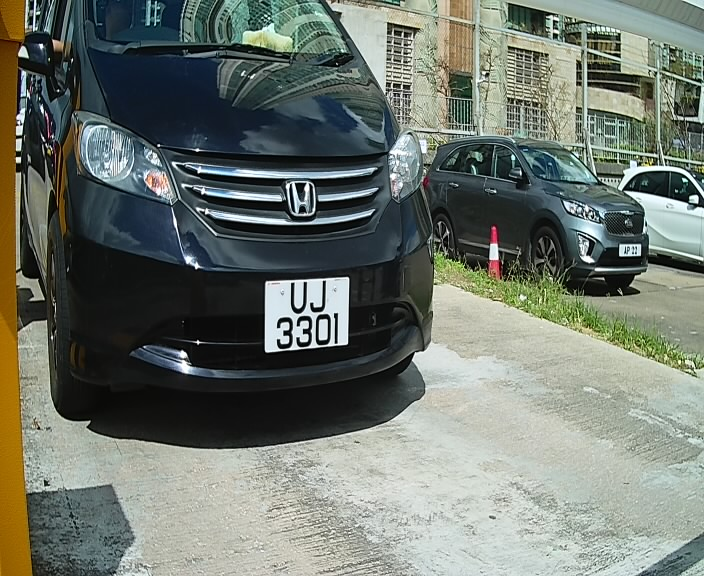Car: (21, 2, 474, 448)
License Plate: (254, 267, 357, 368)
